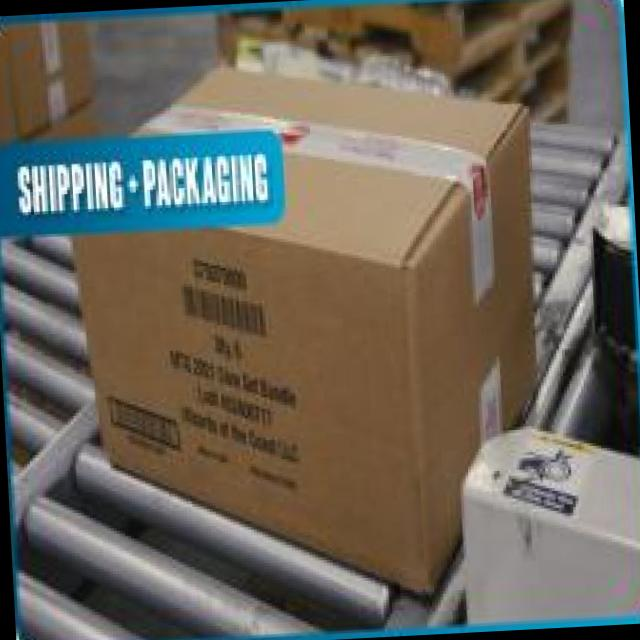box: (59, 68, 537, 590)
